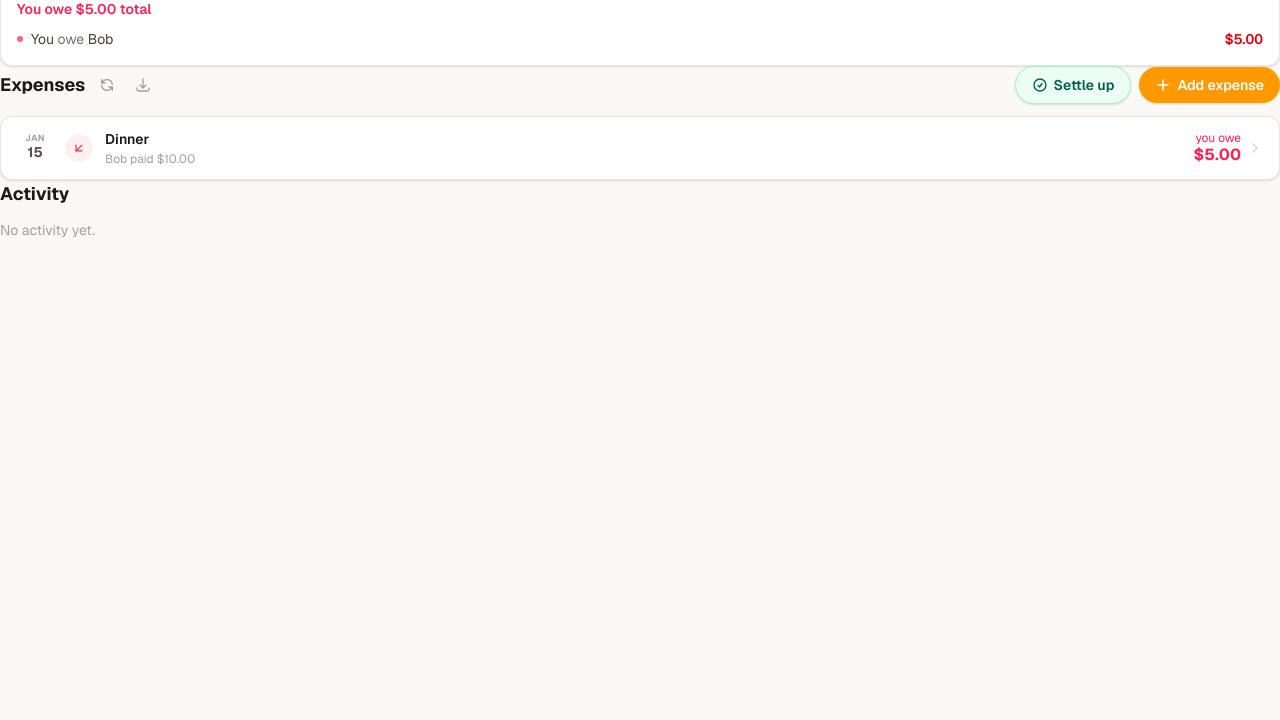
Test: GroupInteractive — Settle Up modal shows correct debts › shows Bob in the Settle Up modal when Alice owes Bob money
The width and height of the screenshot is (1280, 720).
Click the button "Settle up".
click(1073, 85)  # box [1014,66,1131,104]
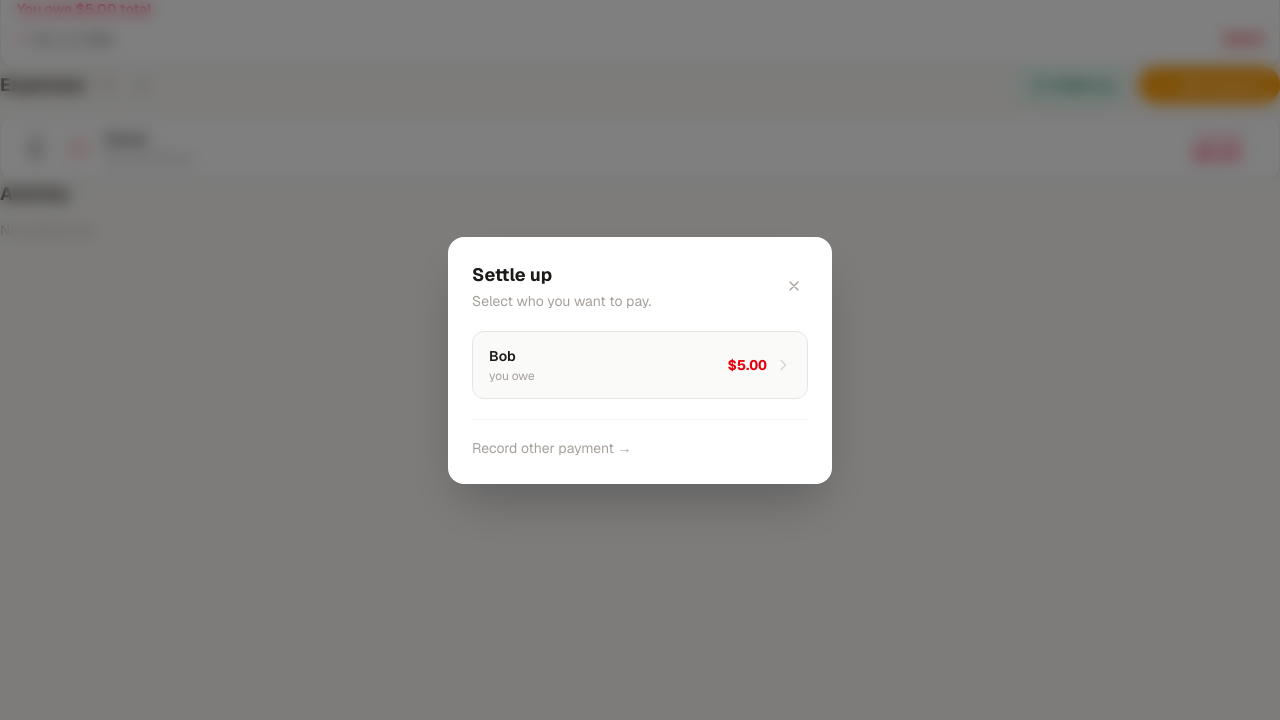
Check: the text "Bob" is shown, box [489,346,516,364]
Check: the text "$5.00" is shown, box [728,354,767,374]
